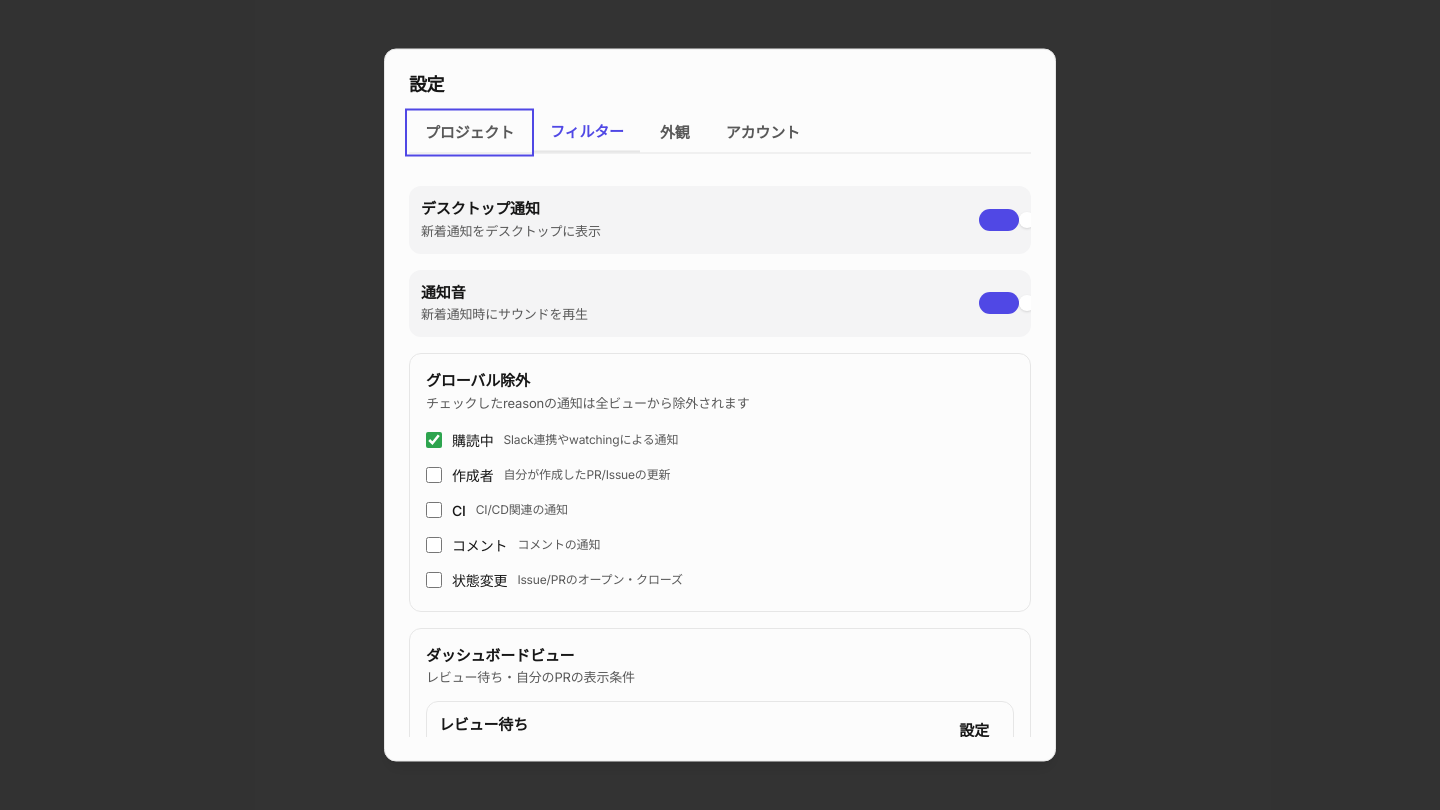
Test case: IssueStatusRulesEditor › 空のルールでレンダリング › 組織別レビュー対象ルールのラベルが表示される
Click the button "設定": (974, 731) [947,713,1001,749]
(page scrolled)
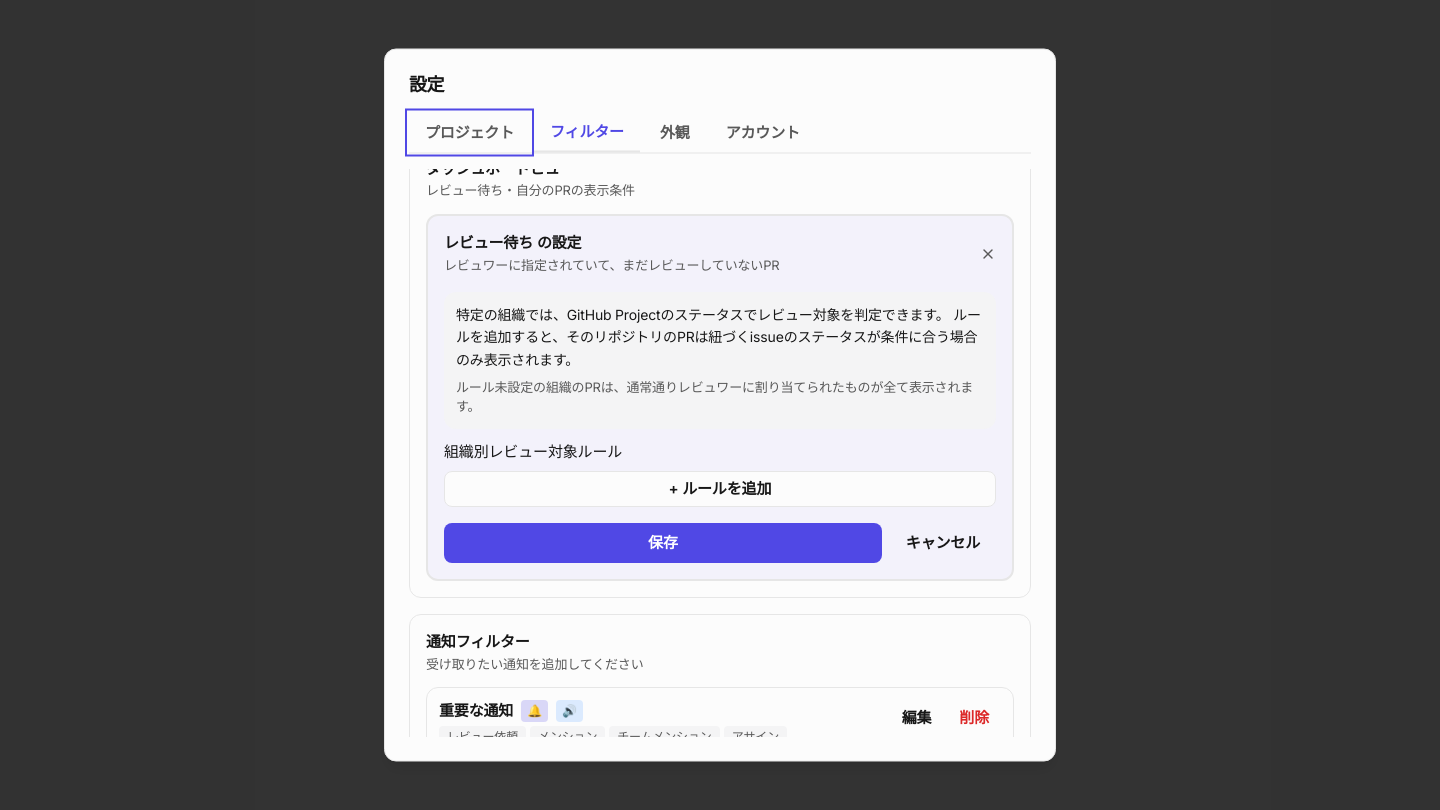
Expected: the text "組織別レビュー対象ルール" is shown, [444,442,622,461]
